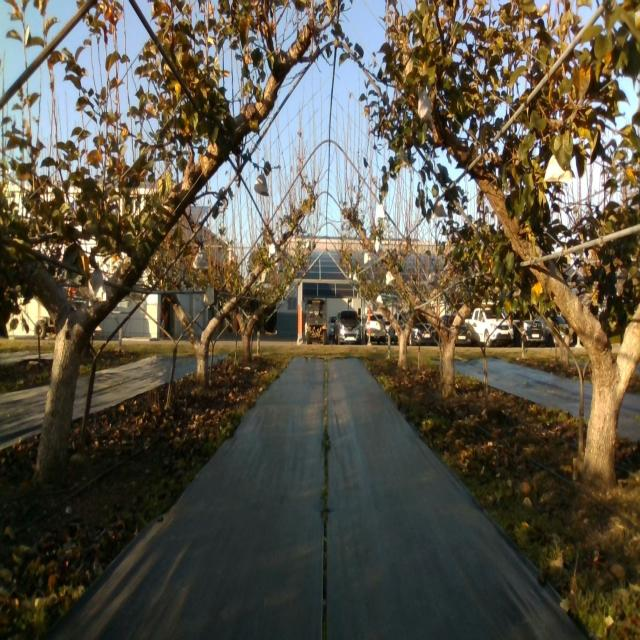pearbags: (543, 153, 573, 184), (88, 266, 107, 307), (417, 91, 432, 122), (254, 170, 269, 197), (192, 247, 208, 270), (432, 199, 448, 218)
